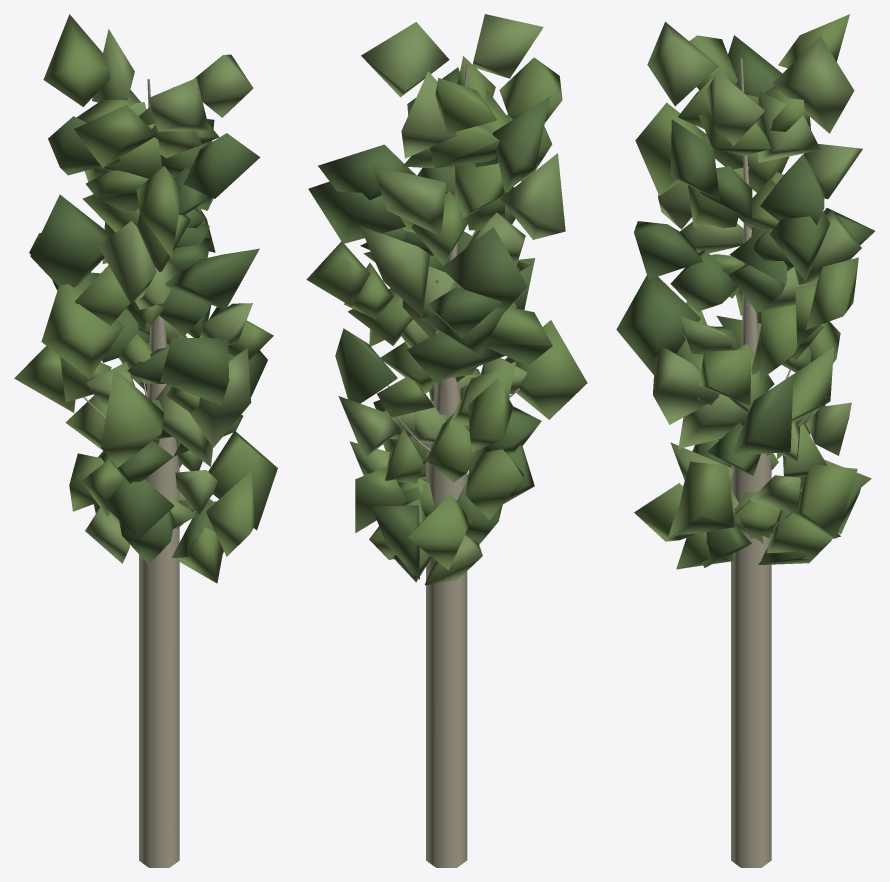
The model's file is birch-a.glb.
3 renders of one model, left to right at view 1: azimuth 30°, elevation 25°; view 2: azimuth 150°, elevation 25°; view 3: azimuth 270°, elevation 25°, orthographic.
Size of the model in its own units: 2.75 by 9.77 by 2.78.
